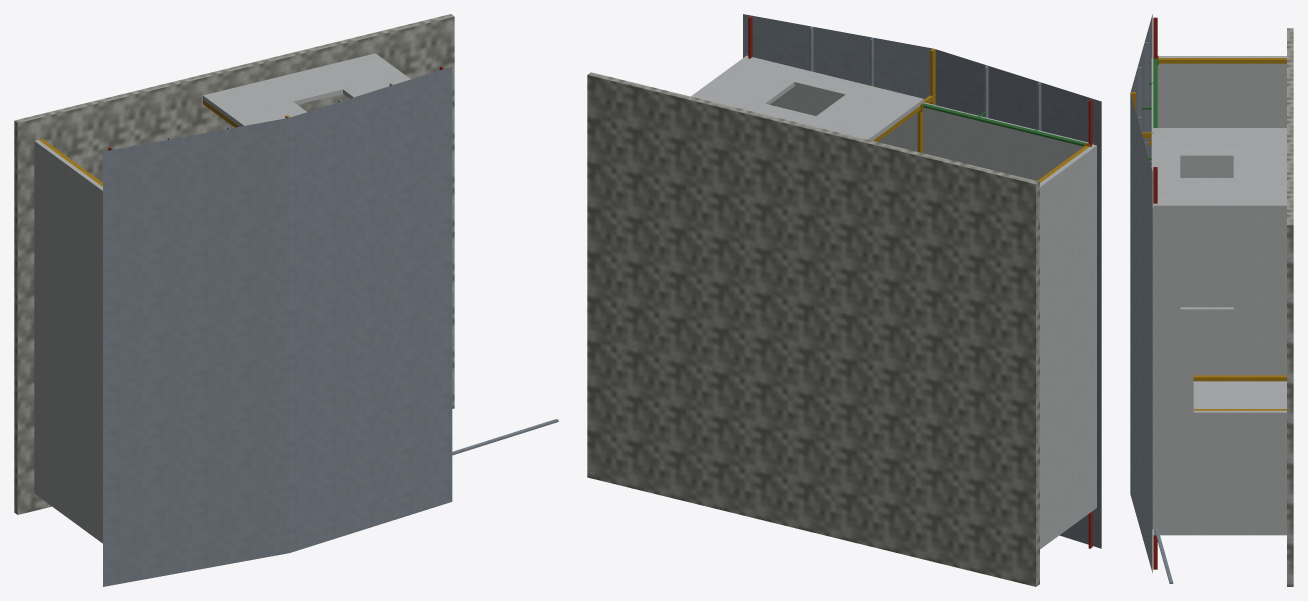
The model's file is garaje2-mwrpxn9m.glb.
The picture shows the model from 3 angles, left to right: view 1: azimuth 30°, elevation 25°; view 2: azimuth 150°, elevation 25°; view 3: azimuth 270°, elevation 25°; orthographic projection. The views are drawn at different scales.
Visible parts, largest first — view 1: XAP_TEX_(1), XAP_TEX_(1)_(1), Body200, Body217, Body218, Body210, Body219, Body209; view 2: Body200, Body218, XAP_TEX_(1), XAP_TEX_(1)_(1), SANDTEX, Body219, Body217, Body208, Body210, SANDTEX_(1), Body209, Body222 (+1 smaller); view 3: Body213, XAP_TEX_(1)_(1), Body216, Body212, Body218, Body211, Body210, Body200, Body217, Body223, Body208, Body209 (+12 smaller).
Part boxes in pixels (<box>): XAP_TEX_(1): <box>103,117,289,586</box>; XAP_TEX_(1)_(1): <box>289,66,452,552</box>; Body200: <box>14,14,454,514</box>; Body217: <box>34,140,66,514</box>; Body218: <box>63,161,95,535</box>; Body210: <box>203,54,399,120</box>; Body219: <box>92,182,102,543</box>; Body209: <box>231,101,306,126</box>; Body200: <box>587,72,1039,586</box>; Body218: <box>1048,155,1081,540</box>; XAP_TEX_(1): <box>935,49,1101,548</box>; XAP_TEX_(1)_(1): <box>743,14,932,99</box>; SANDTEX: <box>923,102,1093,180</box>; Body219: <box>1078,144,1096,518</box>; Body217: <box>1040,177,1052,549</box>; Body208: <box>736,57,923,113</box>; Body210: <box>695,89,879,140</box>; SANDTEX_(1): <box>770,86,917,151</box>; Body209: <box>816,94,908,135</box>; Body222: <box>706,67,794,104</box>; Body213: <box>1180,307,1233,535</box>; XAP_TEX_(1)_(1): <box>1130,93,1152,572</box>; Body216: <box>1153,203,1180,535</box>; Body212: <box>1233,203,1286,372</box>; Body218: <box>1180,56,1233,375</box>; Body211: <box>1233,410,1286,535</box>; Body210: <box>1233,128,1286,203</box>; Body200: <box>1287,28,1293,586</box>; Body217: <box>1233,56,1286,375</box>; Body223: <box>1180,203,1233,260</box>; Body208: <box>1153,128,1180,203</box>; Body209: <box>1180,128,1233,159</box>.
Bounding box in the file's own units: 11.48 × 10 × 3.68.
6 materials, 6 textured.
